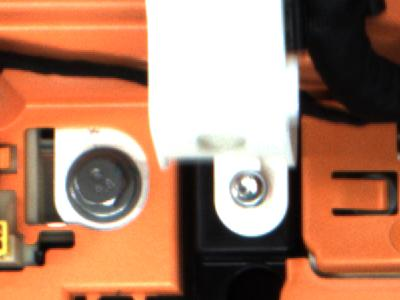nut_b: (62, 143, 148, 230)
screw_m: (228, 171, 270, 213)
